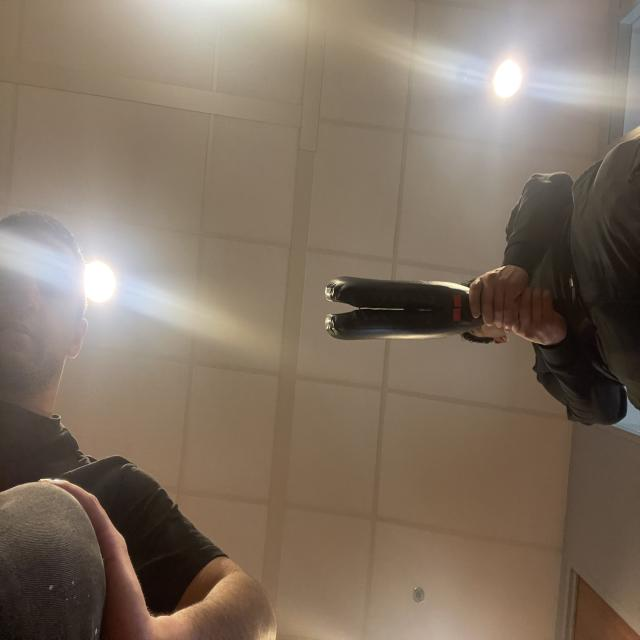paddle: (323, 279, 463, 342)
